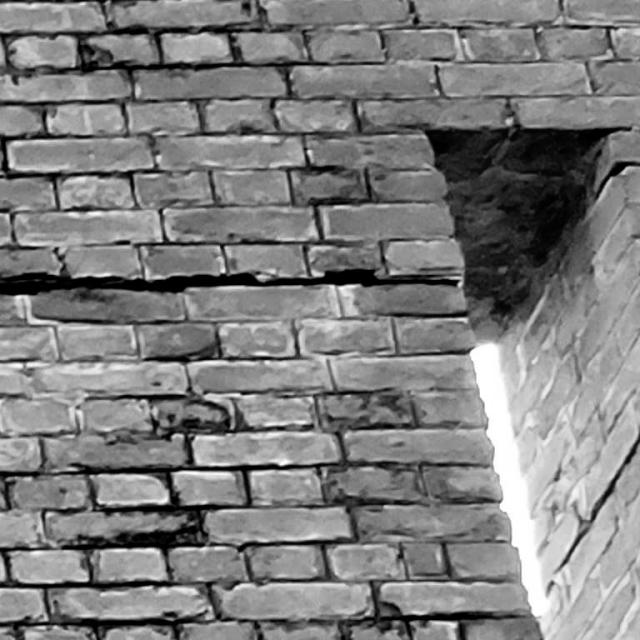crack: (544, 436, 639, 596), (1, 266, 463, 296), (597, 160, 638, 196)
